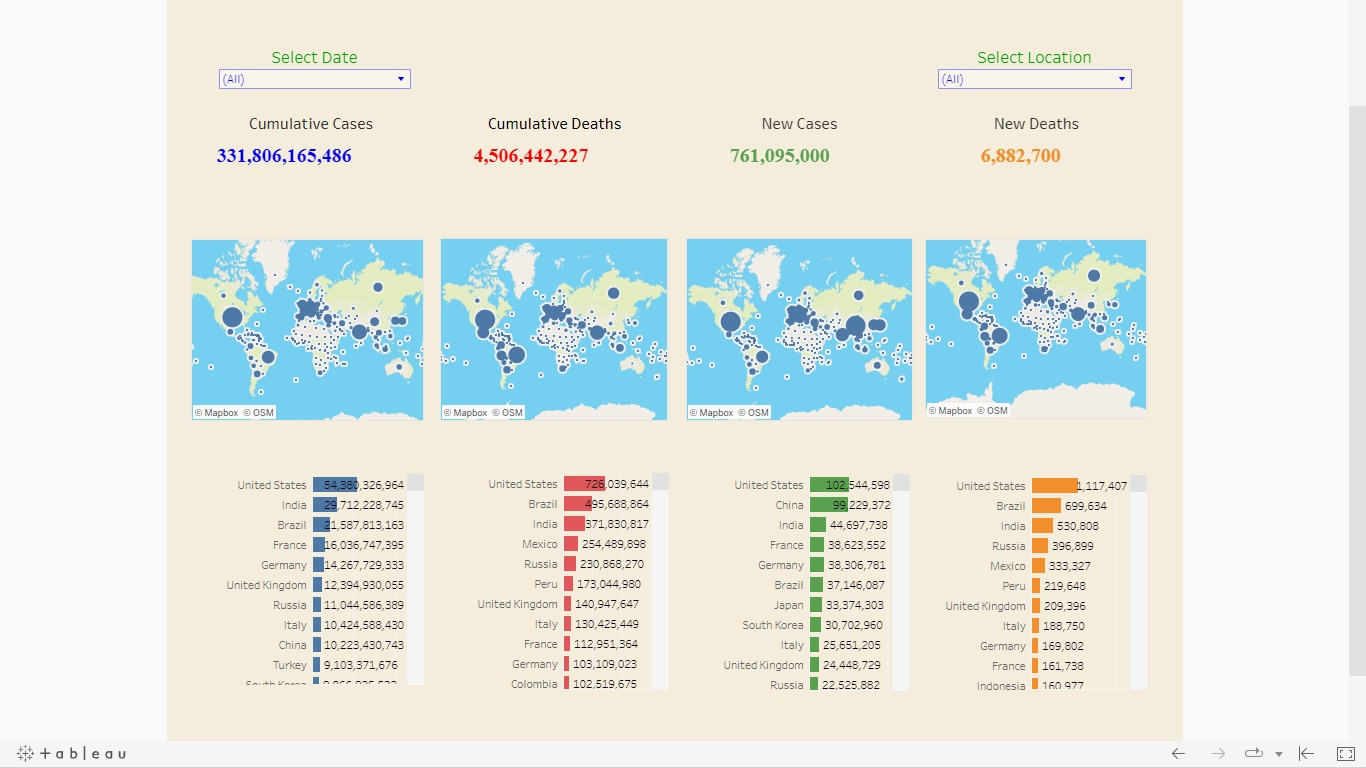

The page's visual inventory and layout, read from the dashboard file:
{"tool":"tableau","page":{"name":"Dashboard 2","canvas":[1000,800],"ordinal":1},"visuals":[{"type":"filter","title":"Bar Chart Cuml Cases","param":"[federated.0unmy7p0cz4znu14lt20j041ynbh].[md:date:ok]","box":[43,38,194,48]},{"type":"worksheet","title":"Cuml Cases","mark":"Automatic","box":[27,99,219,123]},{"type":"worksheet","title":"Cuml Deaths","mark":"Automatic","box":[267,99,226,122]},{"type":"worksheet","title":"New Cases","mark":"Automatic","box":[512,99,226,123]},{"type":"worksheet","title":"New Deaths","mark":"Automatic","box":[753,99,218,123]},{"type":"worksheet","title":"Cuml Deaths MAP","mark":"Automatic","box":[265,216,229,198]},{"type":"worksheet","title":"New Cases MAP","mark":"Automatic","box":[511,216,228,198]},{"type":"worksheet","title":"Cuml Cases MAP","mark":"Automatic","box":[16,217,233,197]},{"type":"worksheet","title":"New Deaths MAP","mark":"Automatic","box":[750,217,223,195]},{"type":"worksheet","title":"Bar Chart Cuml Deaths","mark":"Automatic","rows":["location"],"cols":["Cumulative_Deaths"],"box":[268,466,227,217]},{"type":"worksheet","title":"Bar Chart Cuml Cases","mark":"Automatic","rows":["location"],"cols":["Cumulative_Cases"],"box":[17,467,233,211]},{"type":"worksheet","title":"Bar Chart New Cases","mark":"Automatic","rows":["location"],"cols":["new_cases"],"box":[514,467,222,217]},{"type":"worksheet","title":"Bar Chart New Deaths","mark":"Automatic","rows":["location"],"cols":["new_deaths"],"box":[756,468,217,215]}]}

Visuals, with their boxes on the page's 1000x800 design canvas (x1, y1, x2, y2). These are canvas units, not pixel positions in the 1366x768 screenshot, which may show the page scaled, cropped or inside an application window:
"Bar Chart Cuml Cases" filter: rect(43, 38, 237, 86)
"Cuml Cases" worksheet: rect(27, 99, 246, 222)
"Cuml Deaths" worksheet: rect(267, 99, 493, 221)
"New Cases" worksheet: rect(512, 99, 738, 222)
"New Deaths" worksheet: rect(753, 99, 971, 222)
"Cuml Deaths MAP" worksheet: rect(265, 216, 494, 414)
"New Cases MAP" worksheet: rect(511, 216, 739, 414)
"Cuml Cases MAP" worksheet: rect(16, 217, 249, 414)
"New Deaths MAP" worksheet: rect(750, 217, 973, 412)
"Bar Chart Cuml Deaths" worksheet: rect(268, 466, 495, 683)
"Bar Chart Cuml Cases" worksheet: rect(17, 467, 250, 678)
"Bar Chart New Cases" worksheet: rect(514, 467, 736, 684)
"Bar Chart New Deaths" worksheet: rect(756, 468, 973, 683)
